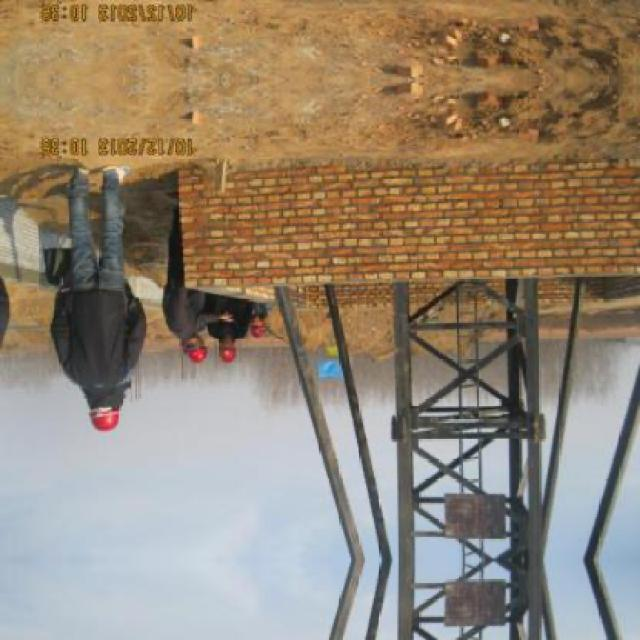con casco: (49, 353, 139, 441), (205, 332, 272, 383), (177, 322, 205, 368)
